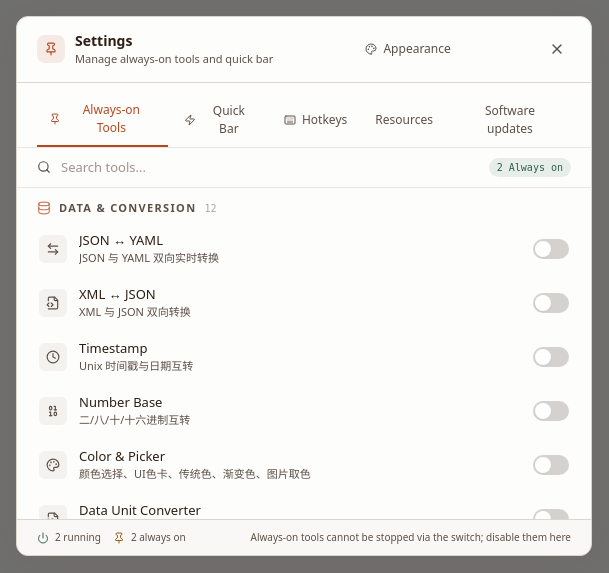
Test: 外观设置 › 打开外观页不会崩溃
Click the button "Appearance" at (408, 49), box top-left (354, 32), bottom-right (463, 66)
(page scrolled)
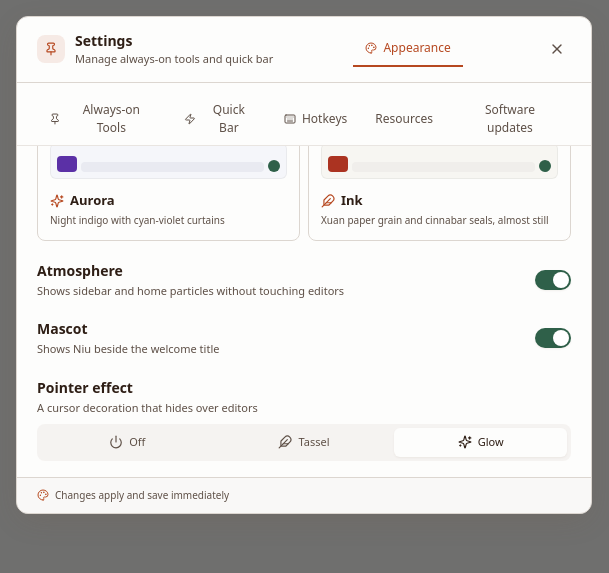
Now the heading "Pointer effect" is shown, box top-left (37, 378), bottom-right (133, 396)
Now the switch named "Mascot" is checked, box top-left (535, 328), bottom-right (571, 348)
Now the button "Tassel" is shown, box top-left (218, 428), bottom-right (390, 456)
